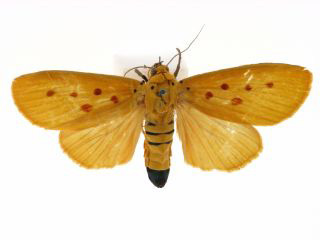Agape chloropyga: (6, 22, 312, 191)
moth: (8, 24, 314, 193)
